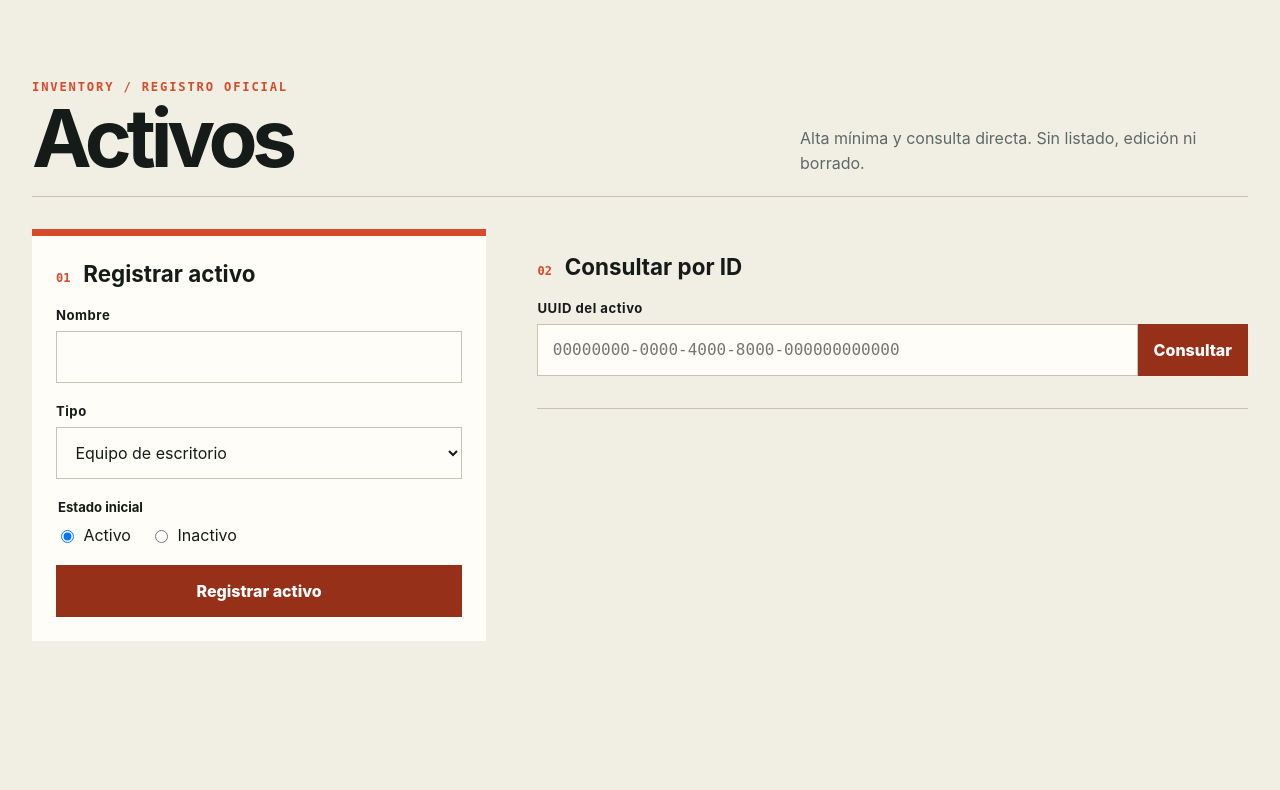
Test: AssetWorkspace › creates an asset with in-memory CSRF and re-queries its official record
In the field labelled "Nombre": x=259, y=357 [56,331,462,383], type "Workstation 042"
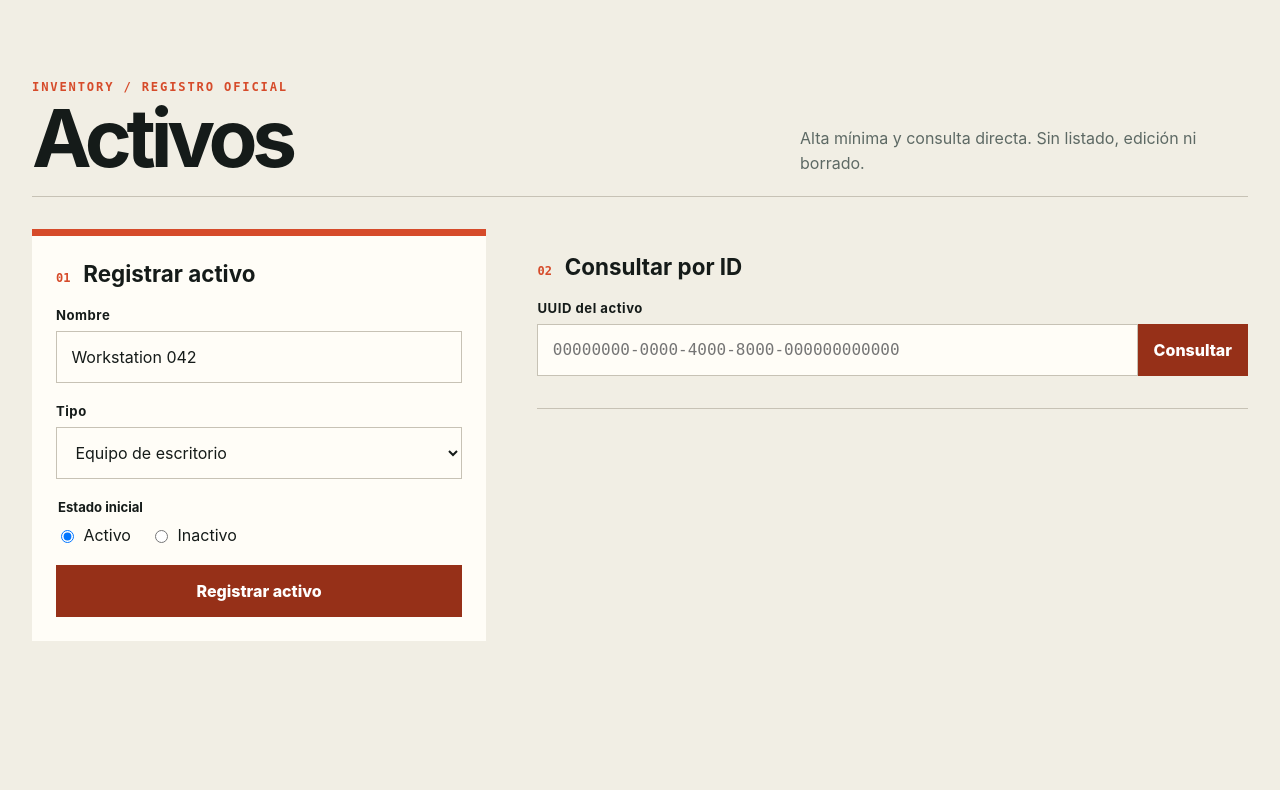
Click the button "Registrar activo": x=259, y=591 [56,565,462,617]
(page scrolled)
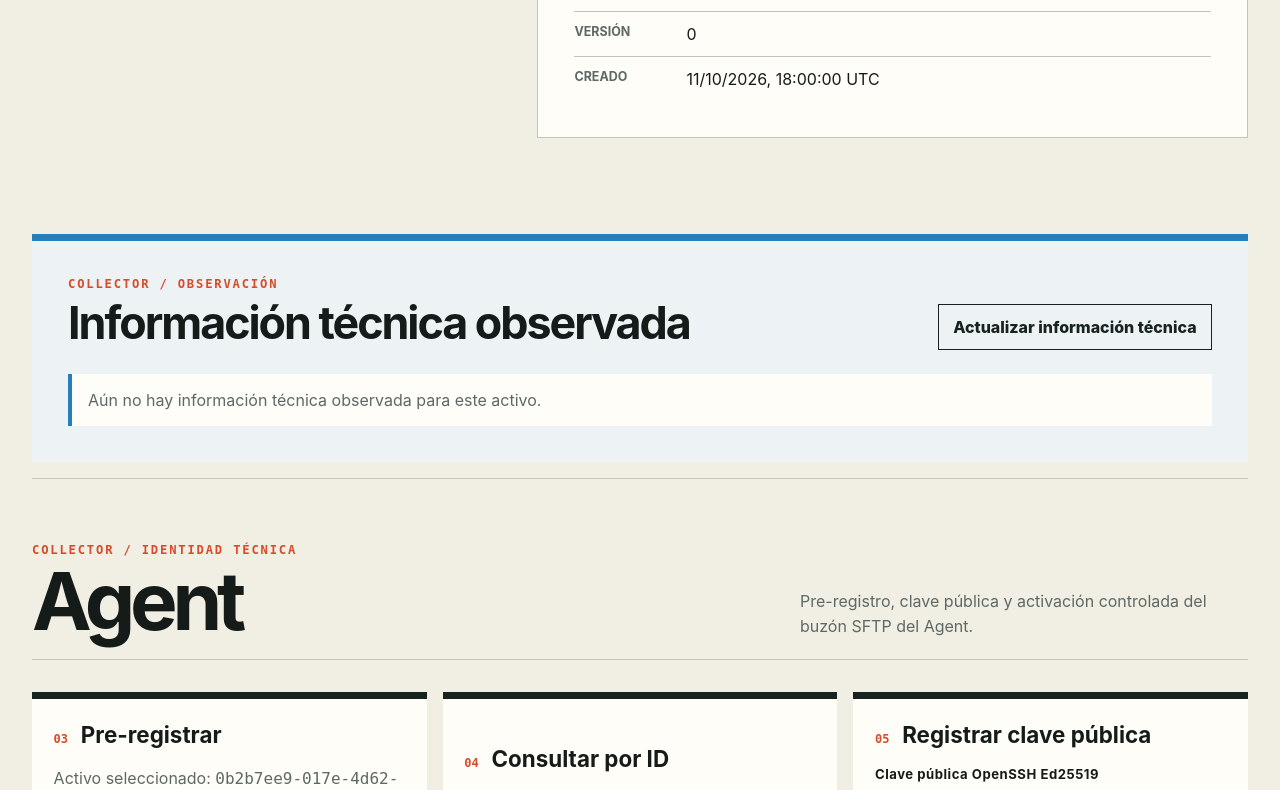
Expected: the text "Aún no hay información técnica observada para este activo." is shown, [68,374,1212,426]
